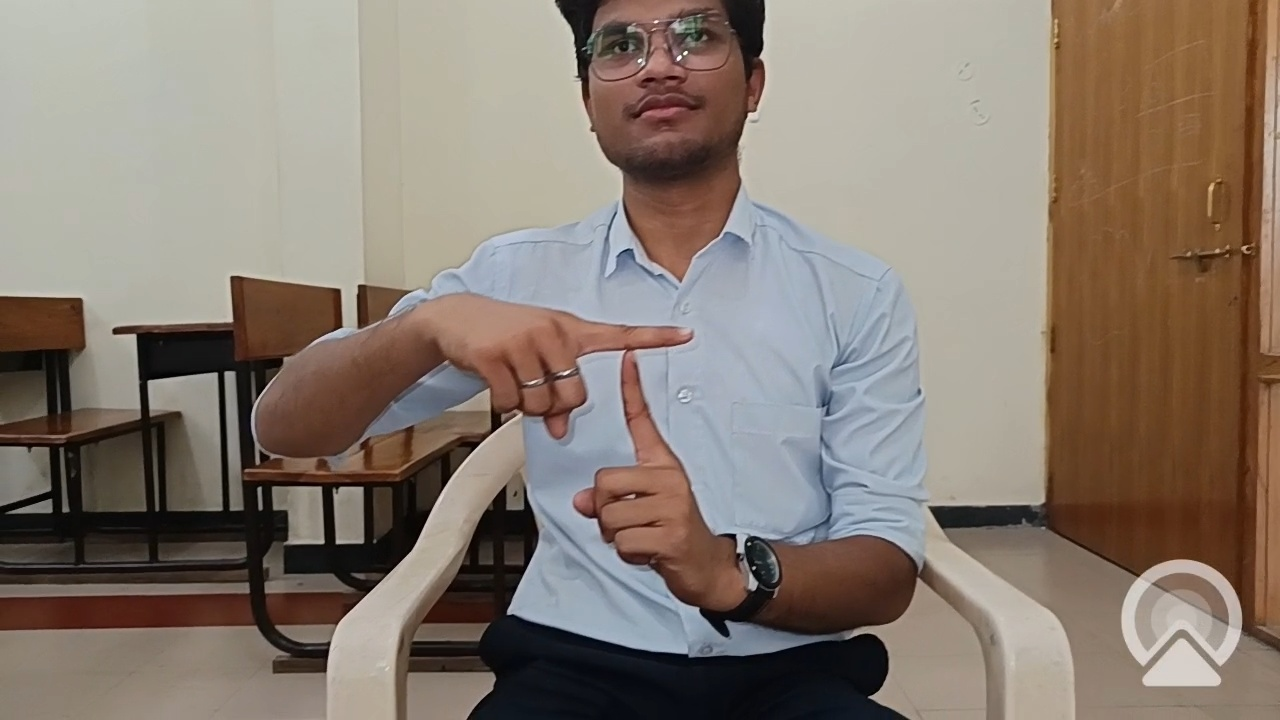T: (422, 269, 749, 573)
